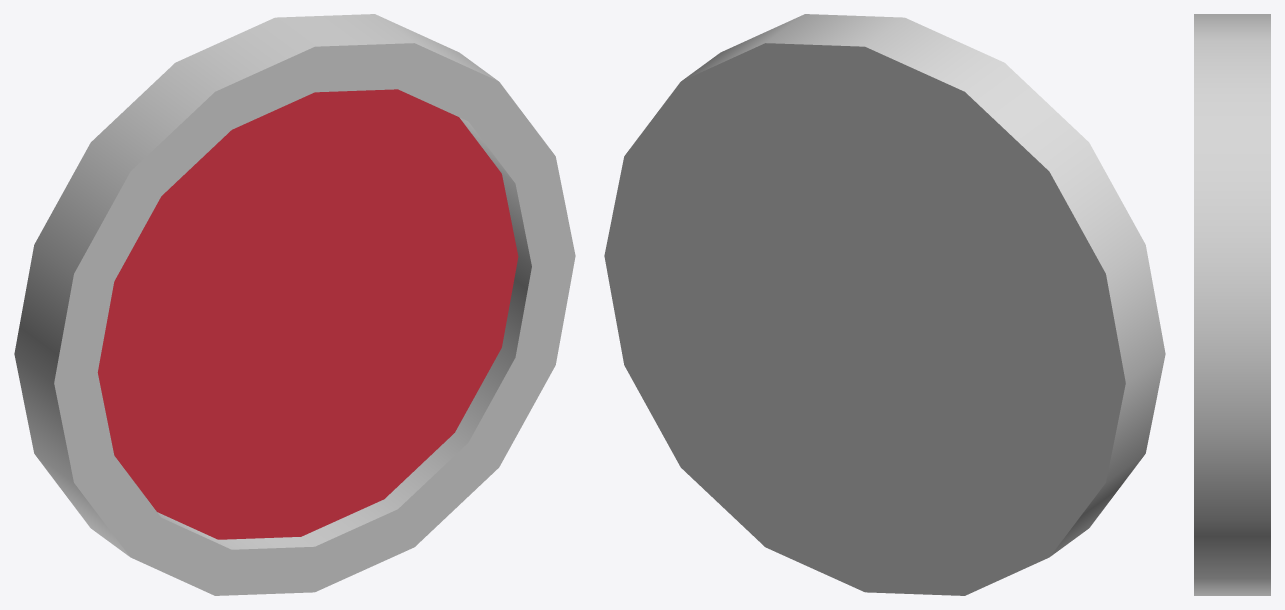
File: SM_StainedGlassRound.fbx
3 renders of one model, left to right at view 1: azimuth 30°, elevation 25°; view 2: azimuth 150°, elevation 25°; view 3: azimuth 270°, elevation 25°, orthographic. The views are drawn at different scales.
Parts seen in each view (by area): view 1: SM_StainedGlassRound; view 2: SM_StainedGlassRound; view 3: SM_StainedGlassRound.
Part boxes in pixels (box(x1,y1,x2,y2)): SM_StainedGlassRound: box(14, 14, 575, 595); SM_StainedGlassRound: box(604, 14, 1165, 595); SM_StainedGlassRound: box(1194, 14, 1270, 595).
Size of the model in its own units: 4.08 by 4.08 by 0.539.
